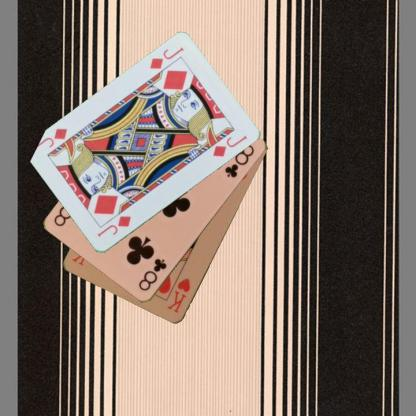8c: (136, 256, 168, 293)
Jd: (147, 45, 185, 71), (95, 213, 132, 238)
Kh: (164, 275, 192, 316)
